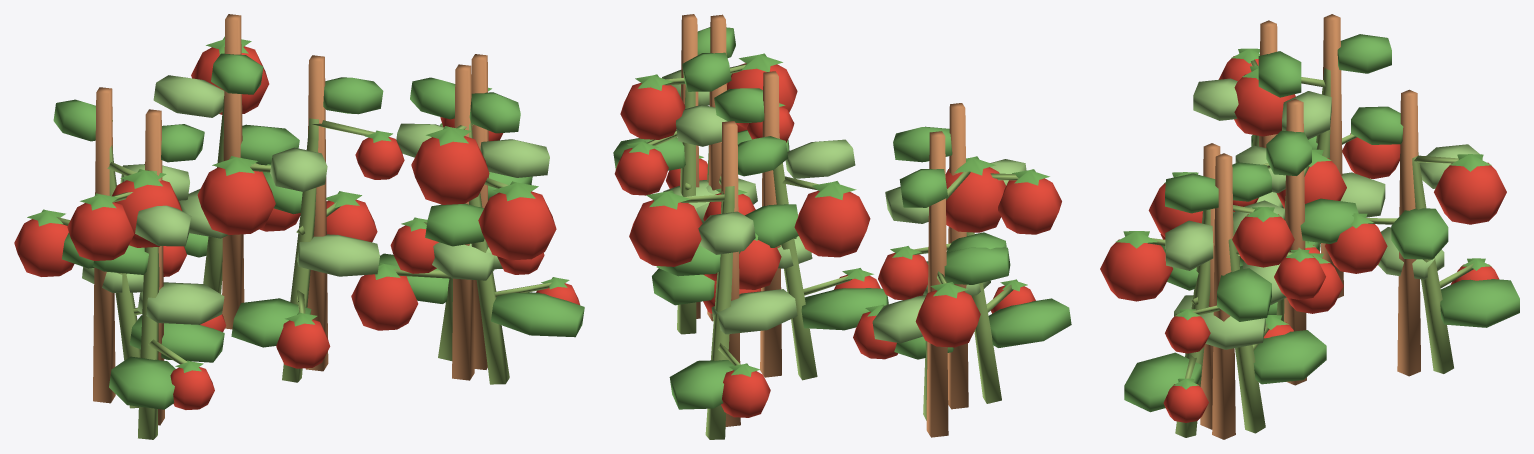
File: tomato_patch.glb
The picture shows the model from 3 angles, left to right: view 1: azimuth 30°, elevation 25°; view 2: azimuth 150°, elevation 25°; view 3: azimuth 270°, elevation 25°; orthographic projection. The views are drawn at different scales.
Visible parts, largest first — view 1: tomato_3, tomato_2, tomato_1; view 2: tomato_3, tomato_2, tomato_1; view 3: tomato_3, tomato_2, tomato_1.
Boxes of the visible parts, box(x1,y1,x2,y2) form: tomato_3: box(67, 14, 584, 439); tomato_2: box(14, 54, 544, 408); tomato_1: box(197, 55, 404, 382); tomato_3: box(620, 14, 1071, 439); tomato_2: box(613, 14, 1010, 437); tomato_1: box(703, 71, 888, 380); tomato_3: box(1100, 20, 1519, 437); tomato_2: box(1148, 14, 1400, 439); tomato_1: box(1233, 99, 1358, 385).
Bounding box in the file's own units: 1.41 × 0.884 × 1.2.
